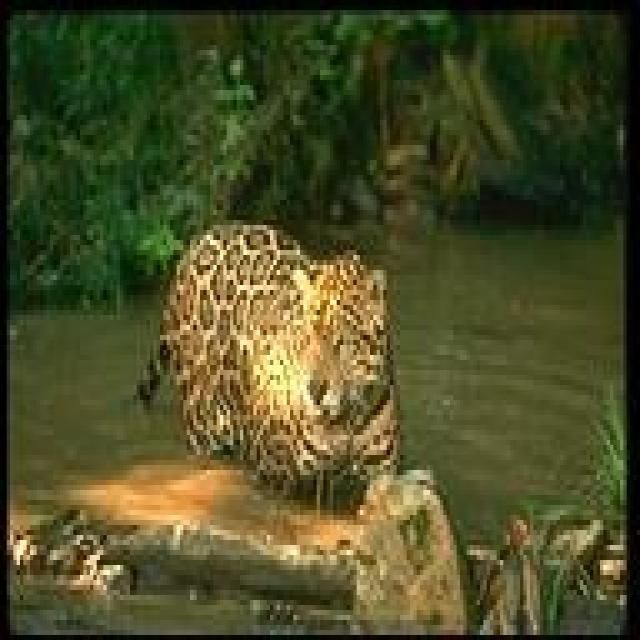Leopard: (136, 217, 410, 506)
